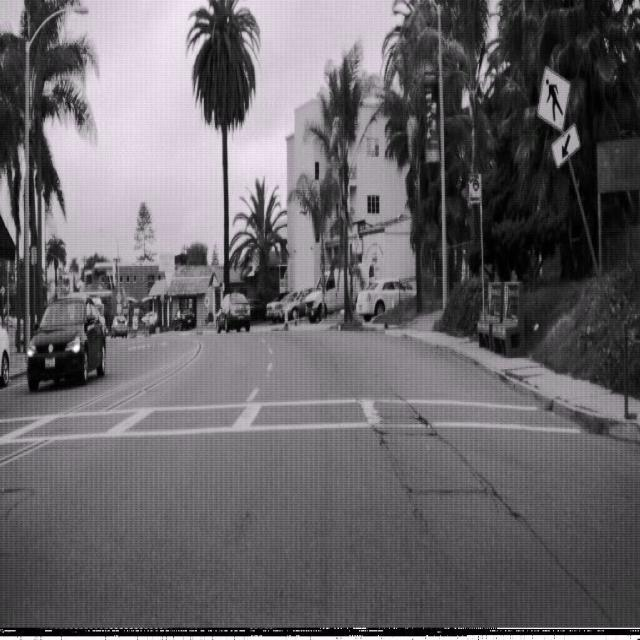pedestrianCrossing: (536, 65, 572, 134)
